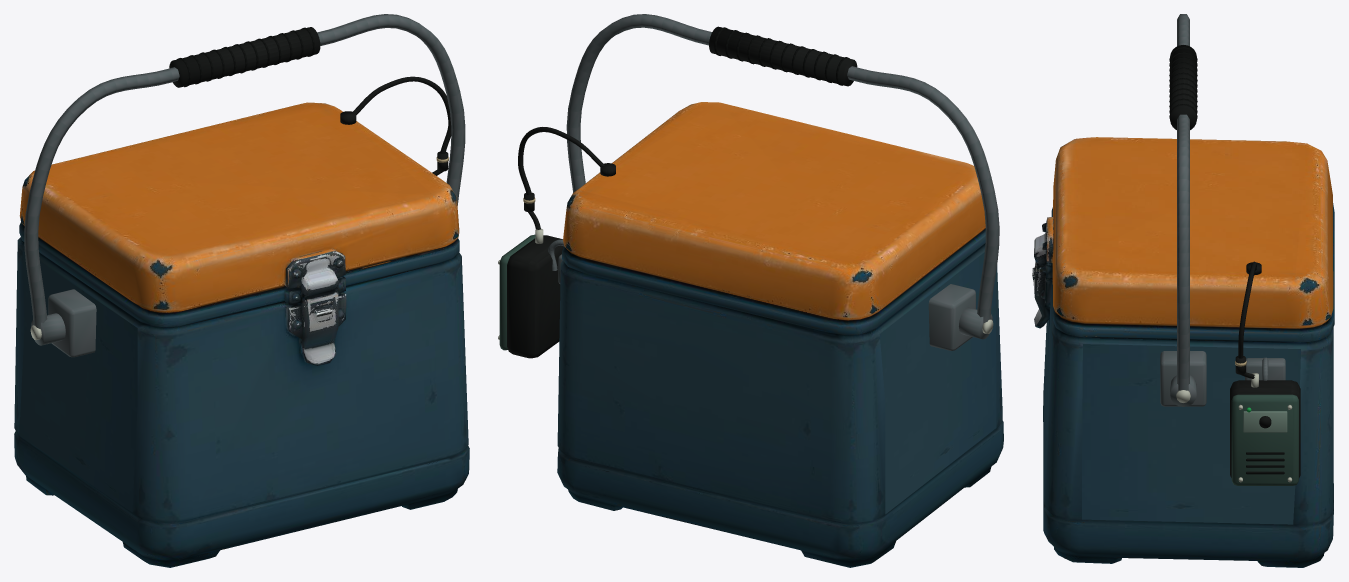
File: oxy_box.glb
3 renders of one model, left to right at view 1: azimuth 30°, elevation 25°; view 2: azimuth 150°, elevation 25°; view 3: azimuth 270°, elevation 25°, orthographic. The views are drawn at different scales.
Visible parts, largest first — view 1: Bucket_Body_Original, Carry_Handle, Mounts, Air_System; view 2: Bucket_Body_Original, Carry_Handle, Pump, Mounts, Air_System; view 3: Bucket_Body_Original, Pump, Carry_Handle, Mounts, Air_System.
Part boxes in pixels (<box>): Bucket_Body_Original: <box>14,102,469,567</box>; Carry_Handle: <box>24,14,465,329</box>; Mounts: <box>30,289,96,357</box>; Air_System: <box>340,76,451,175</box>; Bucket_Body_Original: <box>557,102,1003,567</box>; Carry_Handle: <box>566,14,999,323</box>; Pump: <box>498,228,564,358</box>; Mounts: <box>928,284,993,350</box>; Air_System: <box>518,127,615,229</box>; Bucket_Body_Original: <box>1032,137,1334,567</box>; Pump: <box>1230,357,1300,485</box>; Carry_Handle: <box>1169,14,1197,390</box>; Mounts: <box>1160,351,1206,406</box>; Air_System: <box>1235,261,1261,378</box>.
Size of the model in its own units: 0.4874 by 0.4567 by 0.2953.
Materials: 2 (2 with a texture image).
